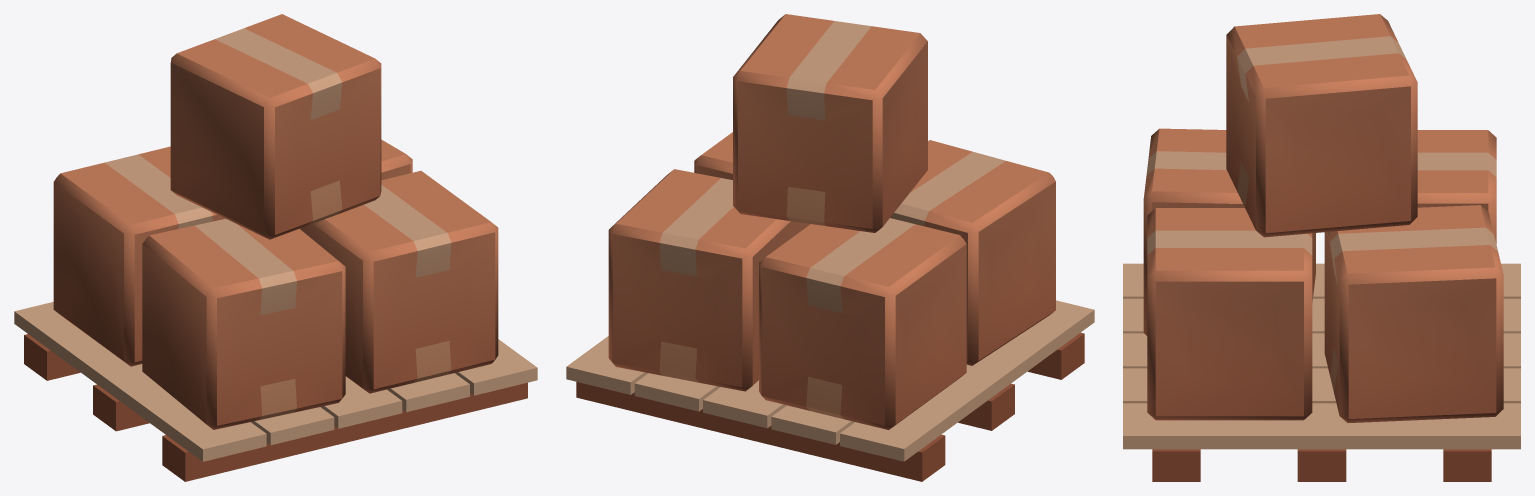
Rendered from carga-ajuda.glb.
The picture shows the model from 3 angles, left to right: view 1: azimuth 30°, elevation 25°; view 2: azimuth 150°, elevation 25°; view 3: azimuth 270°, elevation 25°; orthographic projection. The views are drawn at different scales.
Visible parts, largest first — view 1: modelo; view 2: modelo; view 3: modelo.
Boxes of the visible parts, x1=… form: modelo: x1=14, y1=14, x2=537, y2=481; modelo: x1=566, y1=14, x2=1094, y2=481; modelo: x1=1123, y1=14, x2=1520, y2=481.
Bounding box in the file's own units: 1.57 × 1.43 × 1.5.
